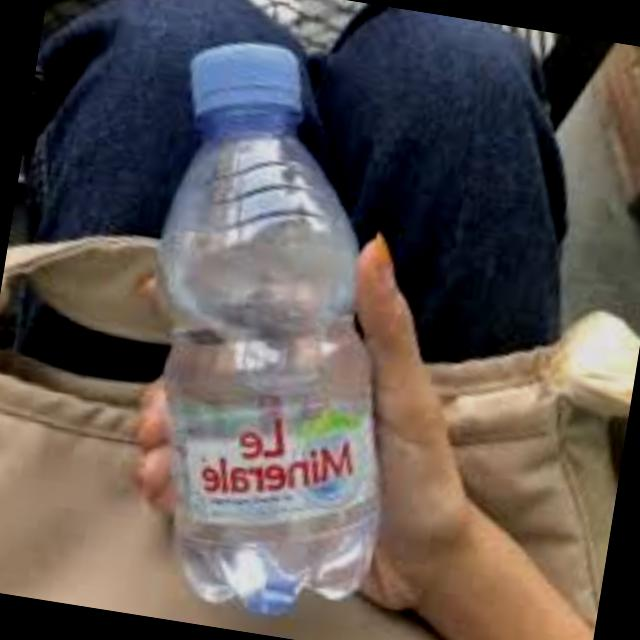trash: (96, 24, 456, 636)
